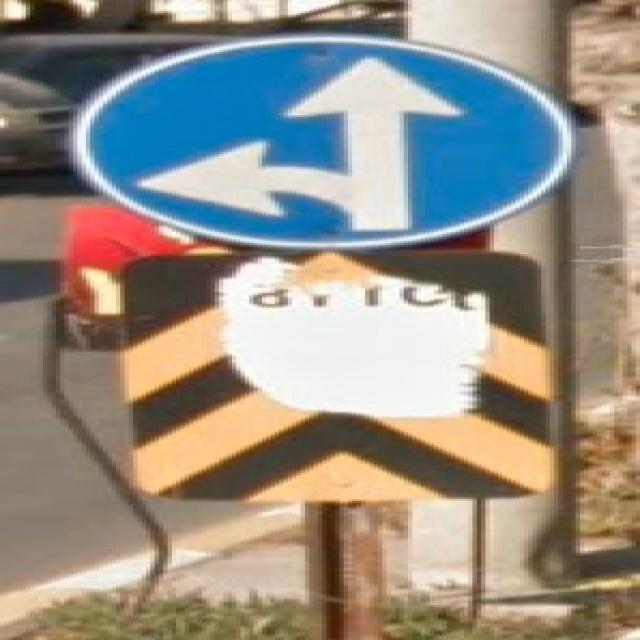Straight or Left: (74, 36, 572, 248)
